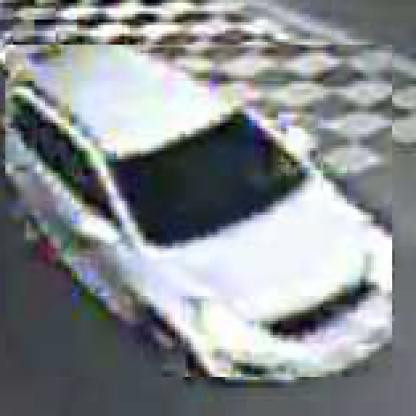car: (4, 46, 393, 381)
